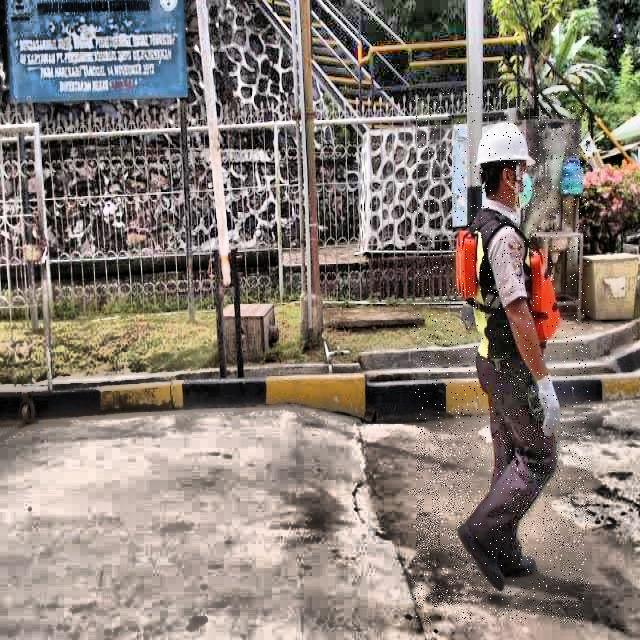safety_helmet: (475, 118, 538, 165)
safety_jacket: (455, 217, 563, 364)
